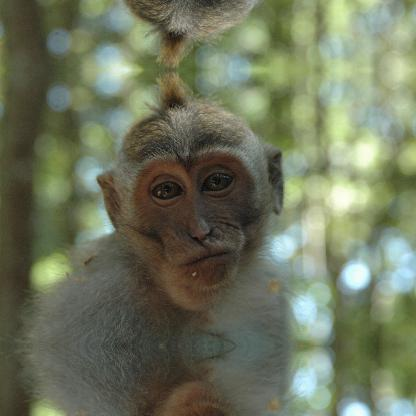Monkey: (0, 71, 321, 345), (0, 346, 321, 415), (0, 0, 321, 67)
